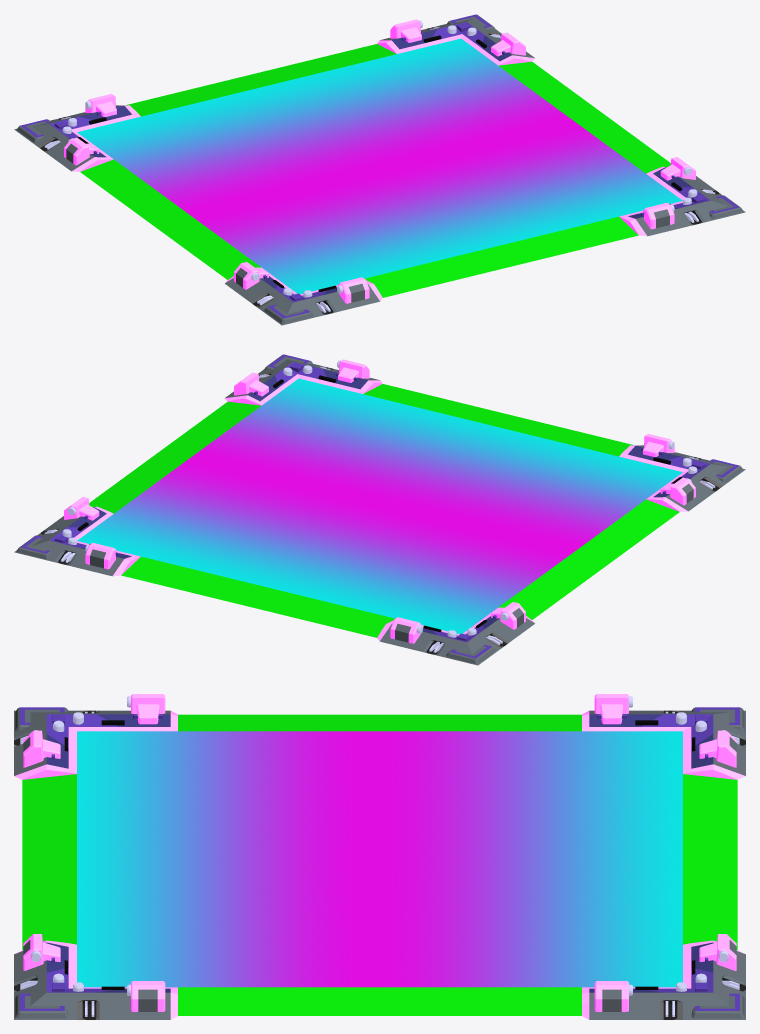
Rendered from NFT_basic_4x4.fbx.
3 renders of one model, top to bottom at view 1: azimuth 30°, elevation 25°; view 2: azimuth 150°, elevation 25°; view 3: azimuth 270°, elevation 25°, orthographic. The views are drawn at different scales.
Parts seen in each view (by area): view 1: _screen_low, walkways; view 2: _screen_low, walkways; view 3: _screen_low, walkways.
Part boxes in pixels (x1,y1,x2,y2): _screen_low: [77, 38, 682, 294]; walkways: [14, 14, 745, 325]; _screen_low: [77, 378, 682, 634]; walkways: [14, 354, 745, 665]; _screen_low: [77, 731, 682, 987]; walkways: [14, 694, 745, 1019].
Size of the model in its own units: 157 by 6.1 by 157.
10 materials, 1 textured.
